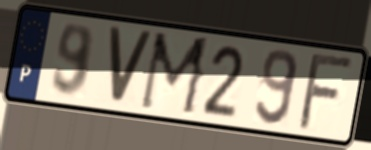2: (202, 42, 248, 119)
9: (253, 47, 299, 129), (49, 20, 95, 100)
F: (294, 52, 358, 134)
M: (136, 30, 214, 120)
V: (106, 23, 156, 109)
